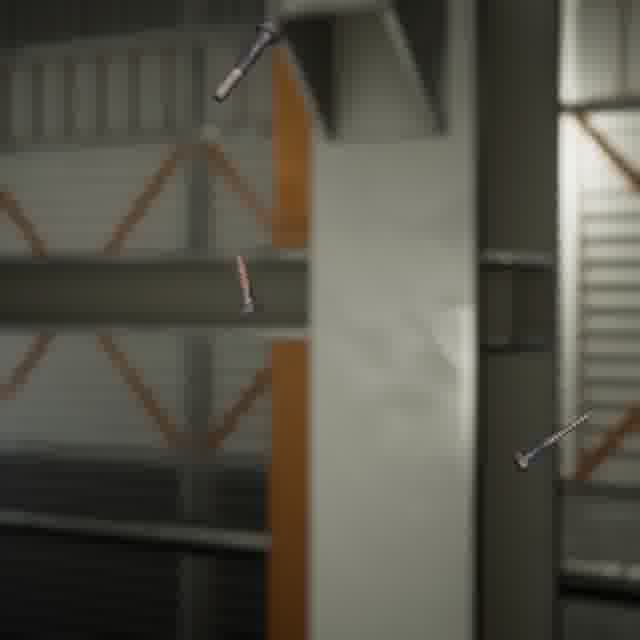bolt: (207, 16, 286, 106), (507, 406, 596, 476), (227, 245, 267, 319)
